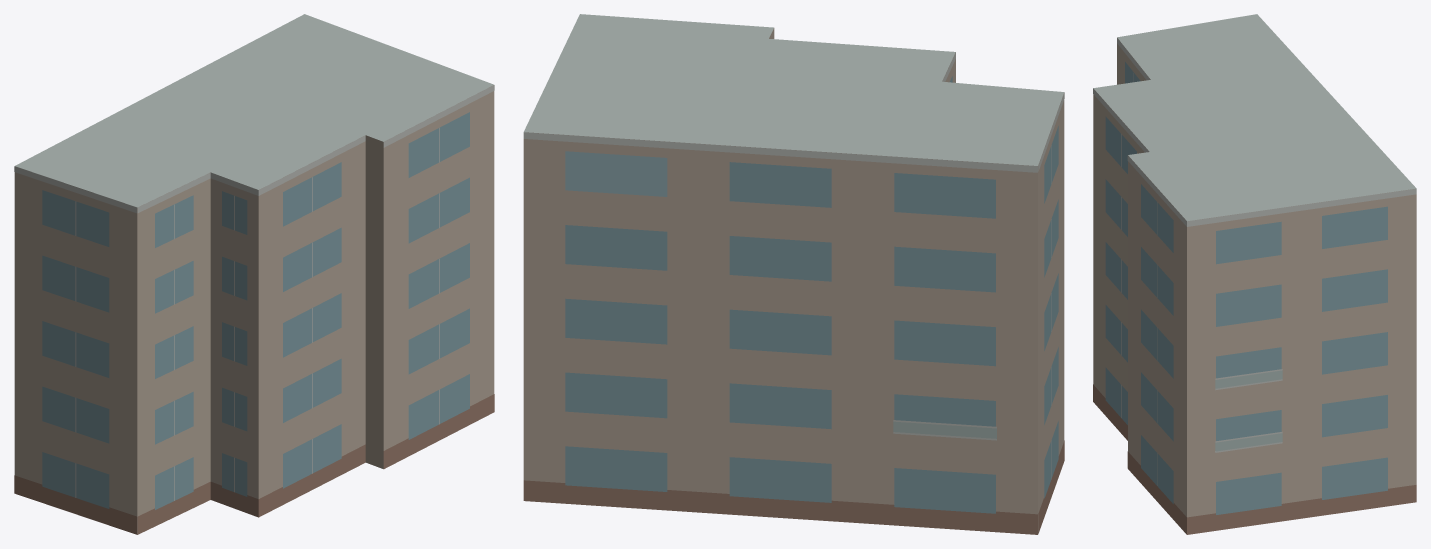
The model's file is survey-upis-33042788.glb.
3 renders of one model, left to right at view 1: azimuth 30°, elevation 25°; view 2: azimuth 150°, elevation 25°; view 3: azimuth 270°, elevation 25°, orthographic. The views are drawn at different scales.
Visible parts, largest first — view 1: survey-upis-33042788.tmp; view 2: survey-upis-33042788.tmp; view 3: survey-upis-33042788.tmp.
Boxes of the visible parts, left/top/right/bottom form: survey-upis-33042788.tmp: left=14, top=14, right=494, bottom=534; survey-upis-33042788.tmp: left=523, top=14, right=1064, bottom=534; survey-upis-33042788.tmp: left=1093, top=14, right=1416, bottom=534.
Bounding box in the file's own units: 18.86 × 13.3 × 12.44.
